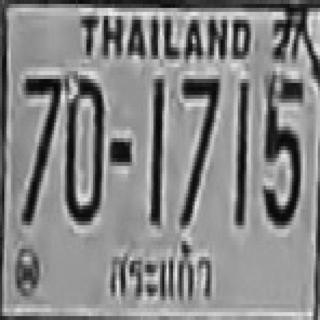N00: (63, 71, 102, 221)
N01: (149, 75, 162, 221), (234, 77, 246, 223)
N05: (262, 73, 303, 223)
N07: (20, 75, 61, 221), (180, 75, 218, 225)
P55: (106, 231, 218, 317)
